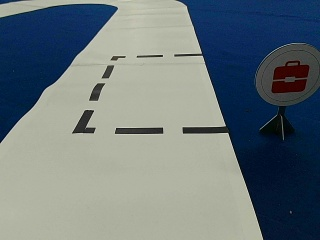company: (255, 43, 319, 105)
